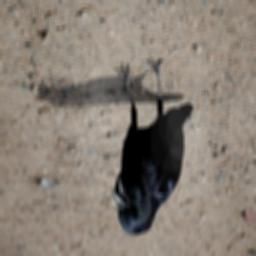Crow: (111, 58, 193, 235)
